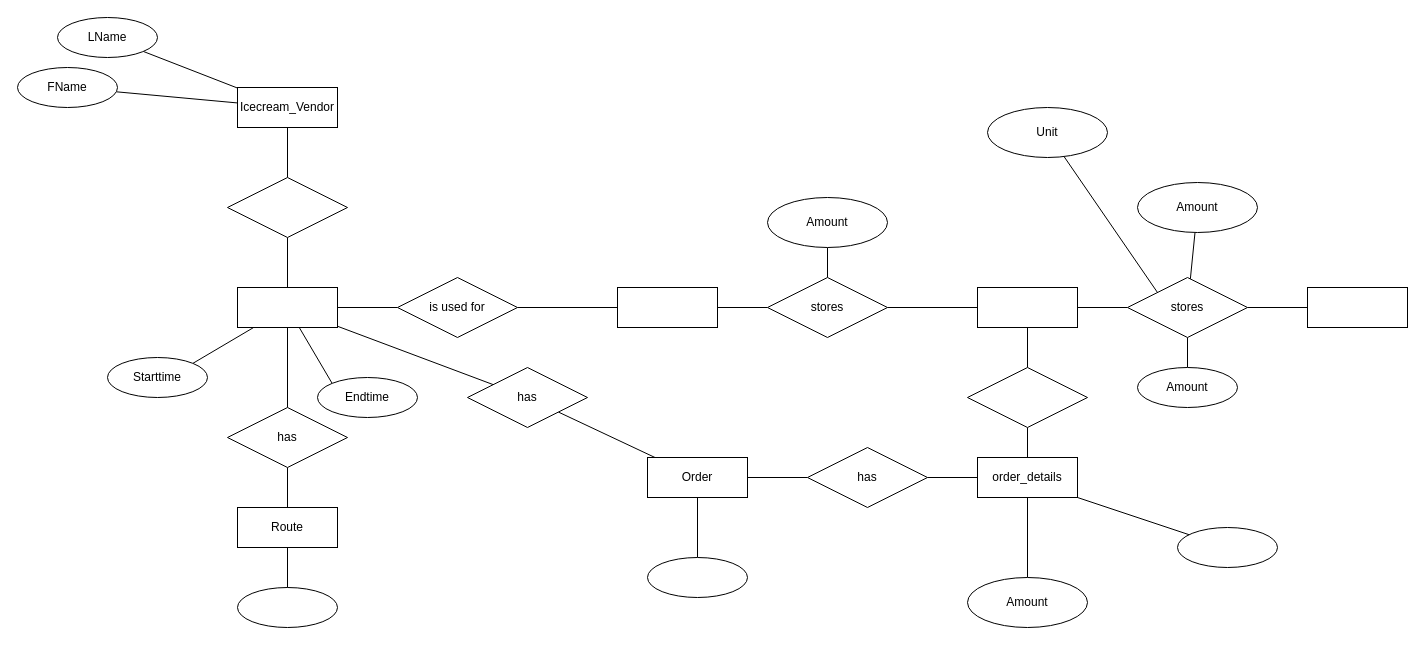
This 1425x645 diagram has some shape labels left out. The centre of each missing label's shape, as x and y in pixels:
"Attribute" goes at pixel 697 577.
"Dauer" goes at pixel 287 607.
"exists of" goes at pixel 1027 397.
"Icecream" goes at pixel 1027 307.
"Price" goes at pixel 1227 547.
"sells on" goes at pixel 287 207.
"Tour" goes at pixel 287 307.
"Vehicle" goes at pixel 667 307.
"Warehouse" goes at pixel 1357 307.
